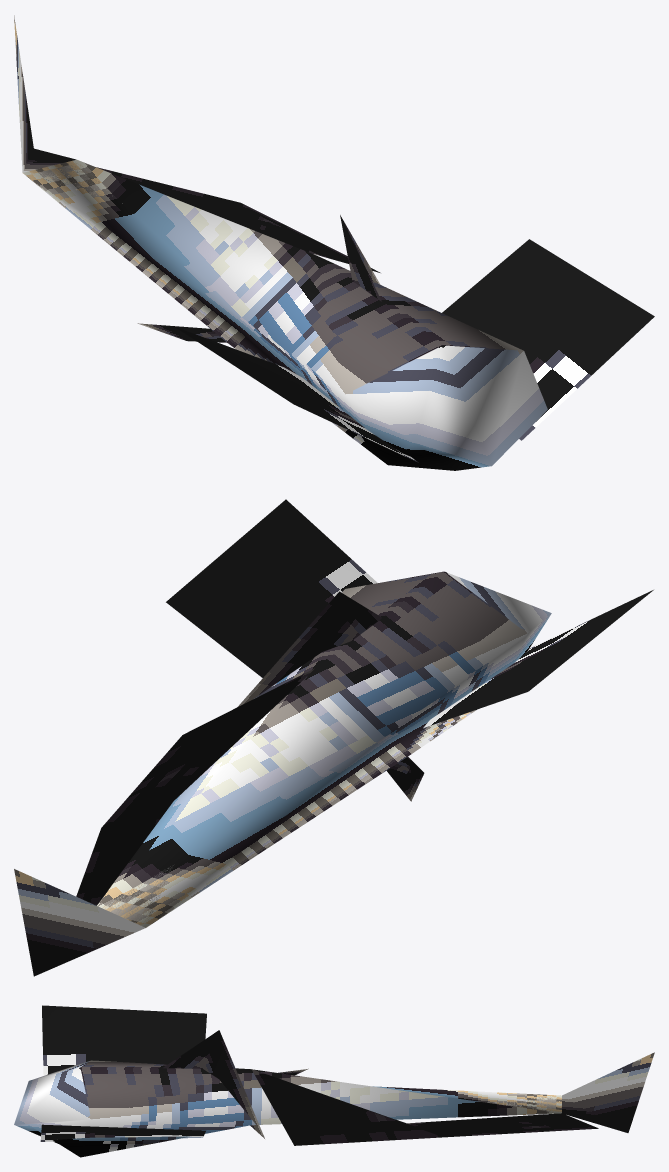
3 renders of one model, top to bottom at view 1: azimuth 30°, elevation 25°; view 2: azimuth 150°, elevation 25°; view 3: azimuth 270°, elevation 25°, orthographic. The views are drawn at different scales.
Parts seen in each view (by area): view 1: 4794fish04; view 2: 4794fish04; view 3: 4794fish04.
Boxes of the visible parts, x1=… form: 4794fish04: x1=14, y1=15, x2=654, y2=470; 4794fish04: x1=14, y1=499, x2=653, y2=976; 4794fish04: x1=14, y1=1005, x2=654, y2=1157.
Bounding box in the file's own units: 0.4495 × 0.2046 × 1.02.
Materials: 1 (1 with a texture image).
